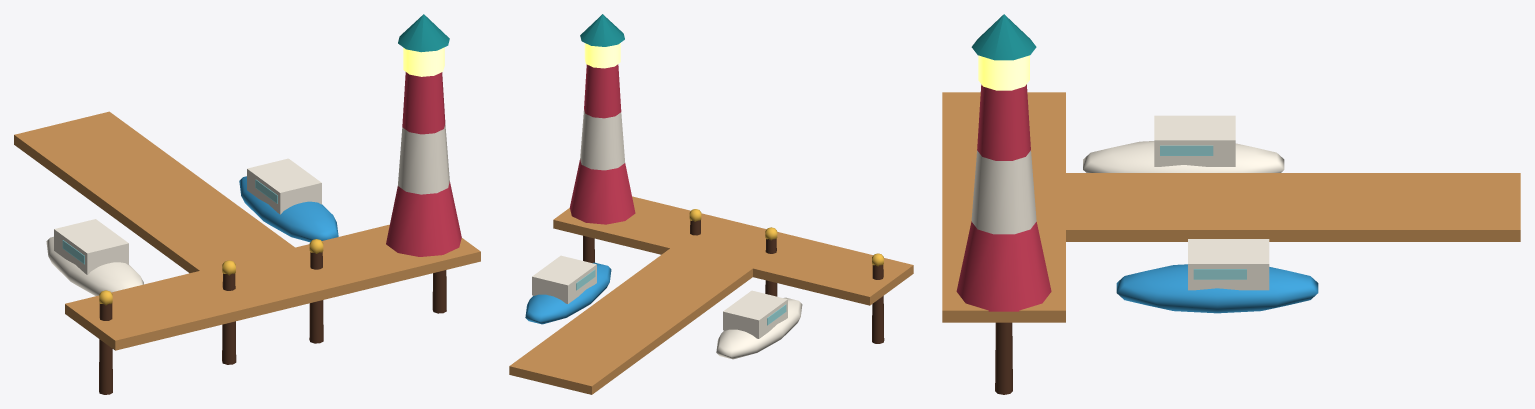
Rendered from marina-docks.glb.
3 views of the same model, side by side, from view 1: azimuth 30°, elevation 25°; view 2: azimuth 150°, elevation 25°; view 3: azimuth 270°, elevation 25° (orthographic). The views are drawn at different scales.
Visible parts, largest first — view 1: Mesh_lightWood, Mesh_warmWhite, Mesh_crimson, Mesh_darkWood, Mesh_skyBlue, Mesh_teal, Mesh_glowWarm, Mesh_gold, Mesh_glass; view 2: Mesh_lightWood, Mesh_warmWhite, Mesh_crimson, Mesh_skyBlue, Mesh_darkWood, Mesh_teal, Mesh_glowWarm, Mesh_gold; view 3: Mesh_lightWood, Mesh_warmWhite, Mesh_crimson, Mesh_skyBlue, Mesh_teal, Mesh_glowWarm, Mesh_darkWood, Mesh_glass.
Boxes of the visible parts, x1,y1,x2,y2 form: Mesh_lightWood: (14,111,480,350); Mesh_warmWhite: (46,124,449,295); Mesh_crimson: (386,72,461,256); Mesh_darkWood: (99,252,446,394); Mesh_skyBlue: (239,176,338,242); Mesh_teal: (398,14,449,52); Mesh_glowWarm: (403,47,444,76); Mesh_gold: (99,239,323,305); Mesh_glass: (62,179,277,264); Mesh_lightWood: (509,196,913,394); Mesh_warmWhite: (532,109,802,359); Mesh_crimson: (569,64,635,224); Mesh_skyBlue: (525,262,611,324); Mesh_darkWood: (583,220,884,343); Mesh_teal: (580,14,624,46); Mesh_glowWarm: (584,43,620,68); Mesh_gold: (689,209,883,266); Mesh_lightWood: (942,92,1520,322); Mesh_warmWhite: (971,115,1284,290); Mesh_crimson: (956,84,1051,311); Mesh_skyBlue: (1116,264,1318,313); Mesh_teal: (971,14,1036,60); Mesh_glowWarm: (978,55,1029,90); Mesh_darkWood: (995,322,1012,394); Mesh_glass: (1160,145,1246,279).
Bounding box in the file's own units: 9.21 × 7.23 × 10.3.
